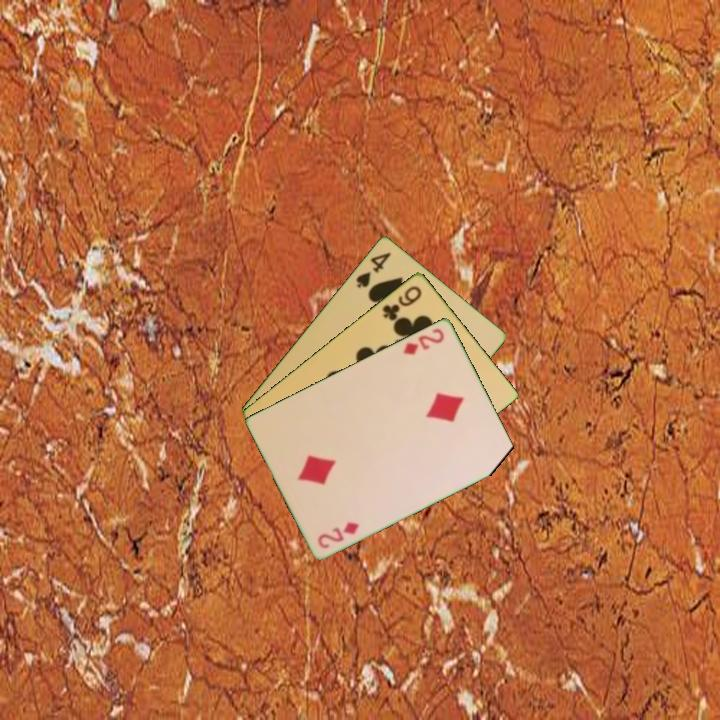2d: (314, 518, 362, 551), (400, 324, 447, 357)
4s: (352, 248, 394, 290)
9c: (379, 282, 425, 323)
